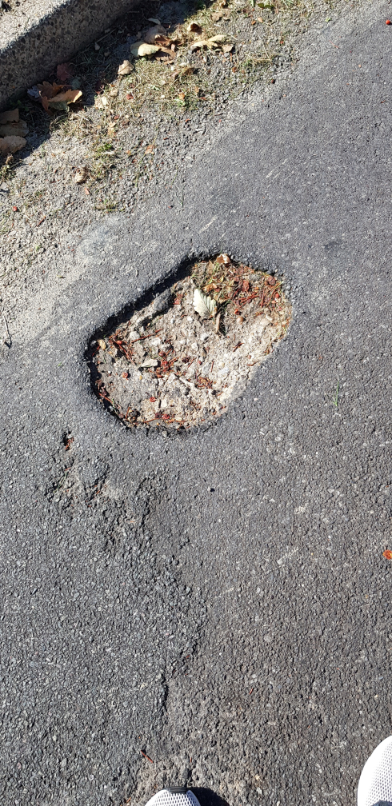pothole: (78, 242, 299, 442)
